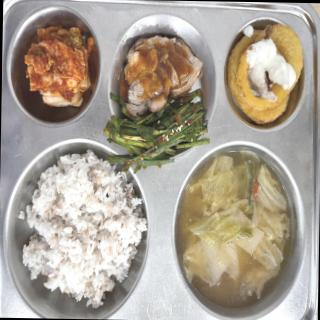Nasi: (23, 158, 147, 307)
